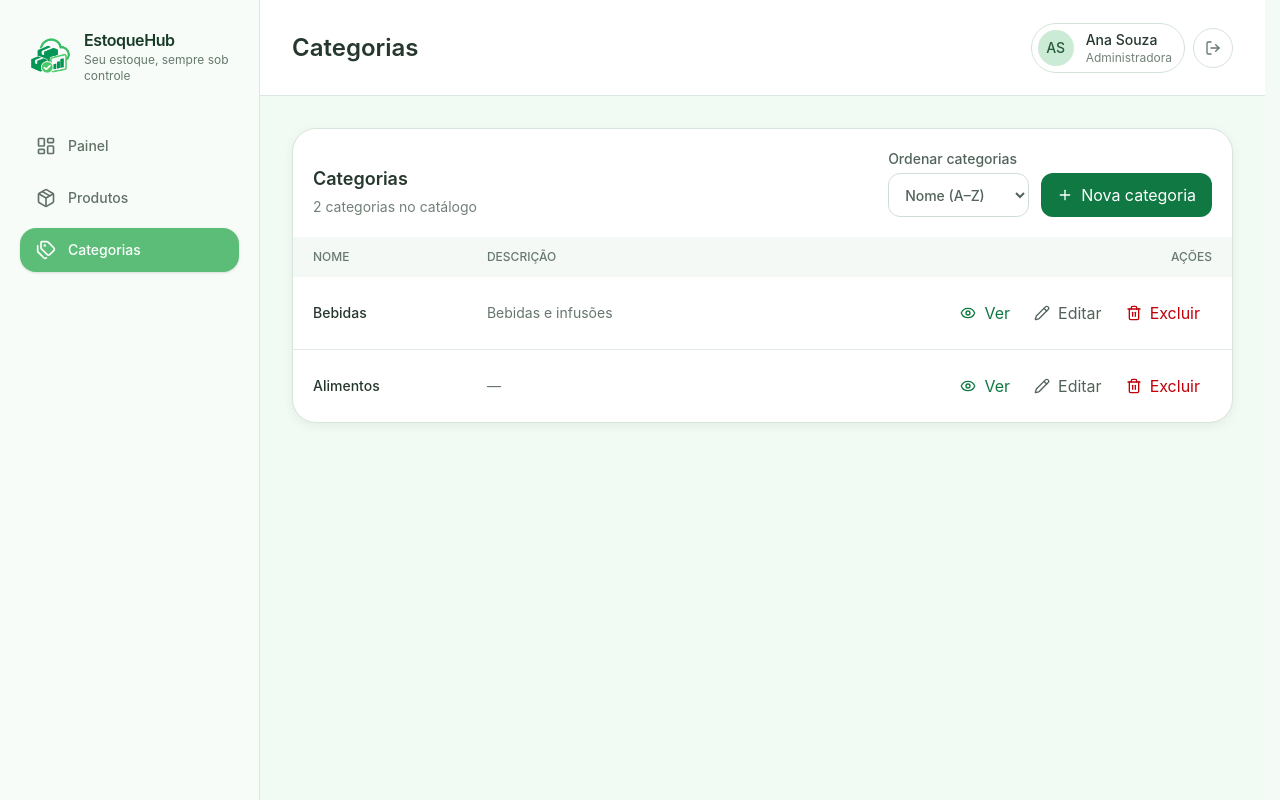
Test: CategoriesPage › allows an admin to delete a category after confirmation
Click the button with aria-label "excluir bebidas".
click(1163, 313)  # box top-left (1114, 293), bottom-right (1212, 333)
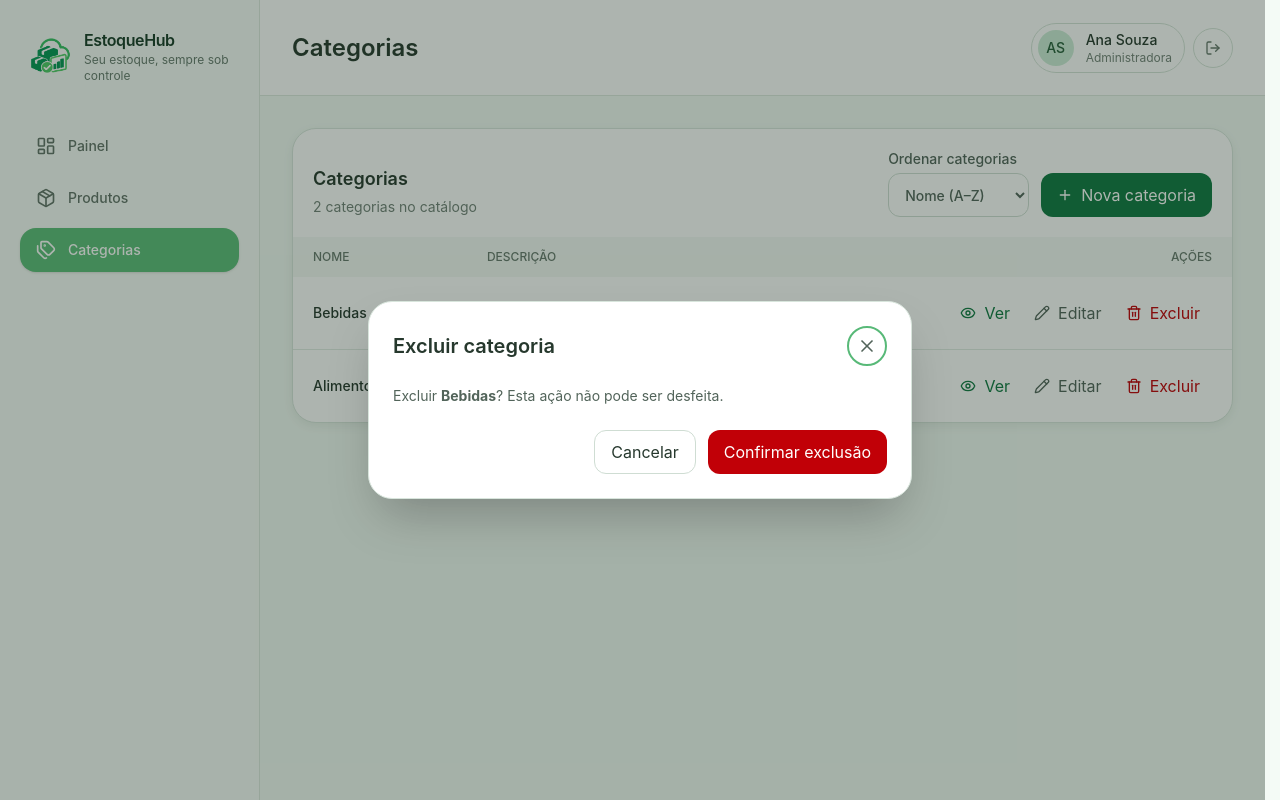
Click the button "Confirmar exclusão".
click(797, 452)  # box top-left (708, 430), bottom-right (887, 474)
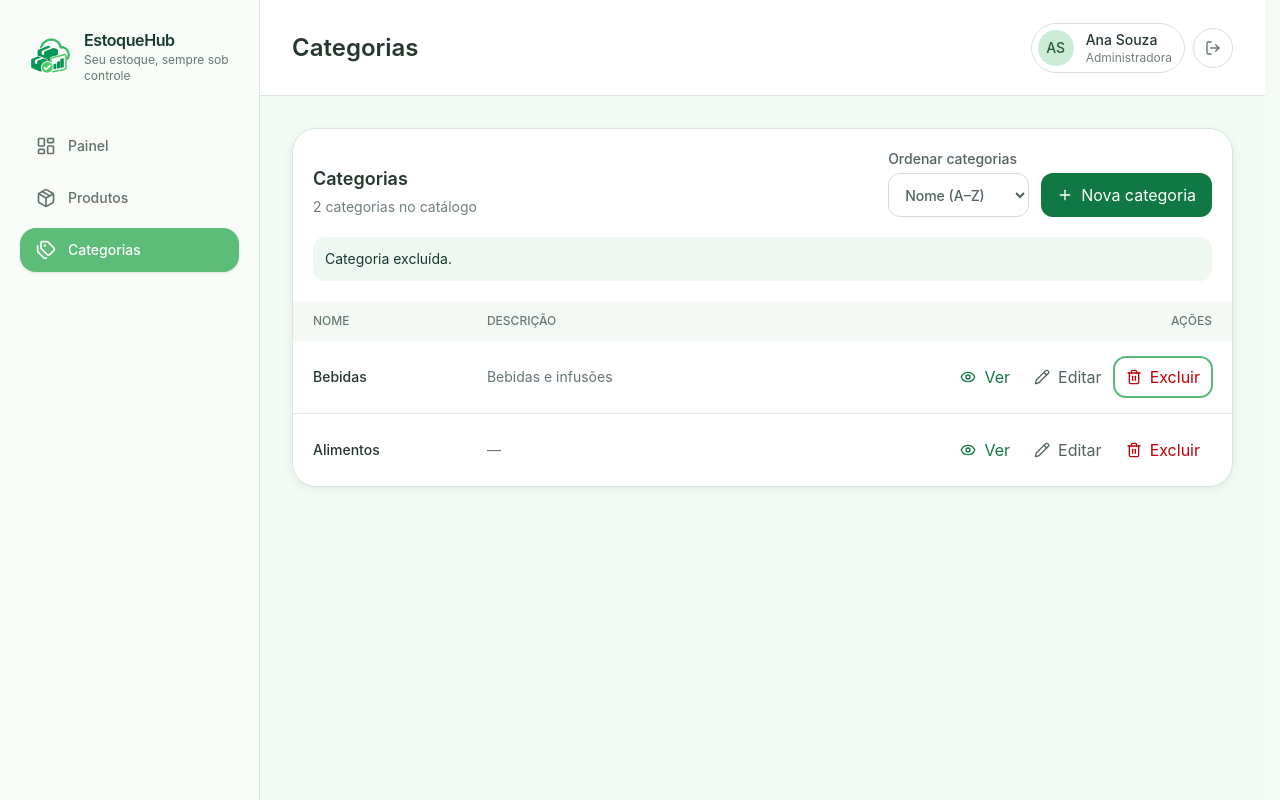
Now the text "Categoria excluída." is shown, box top-left (313, 237), bottom-right (1212, 281)
